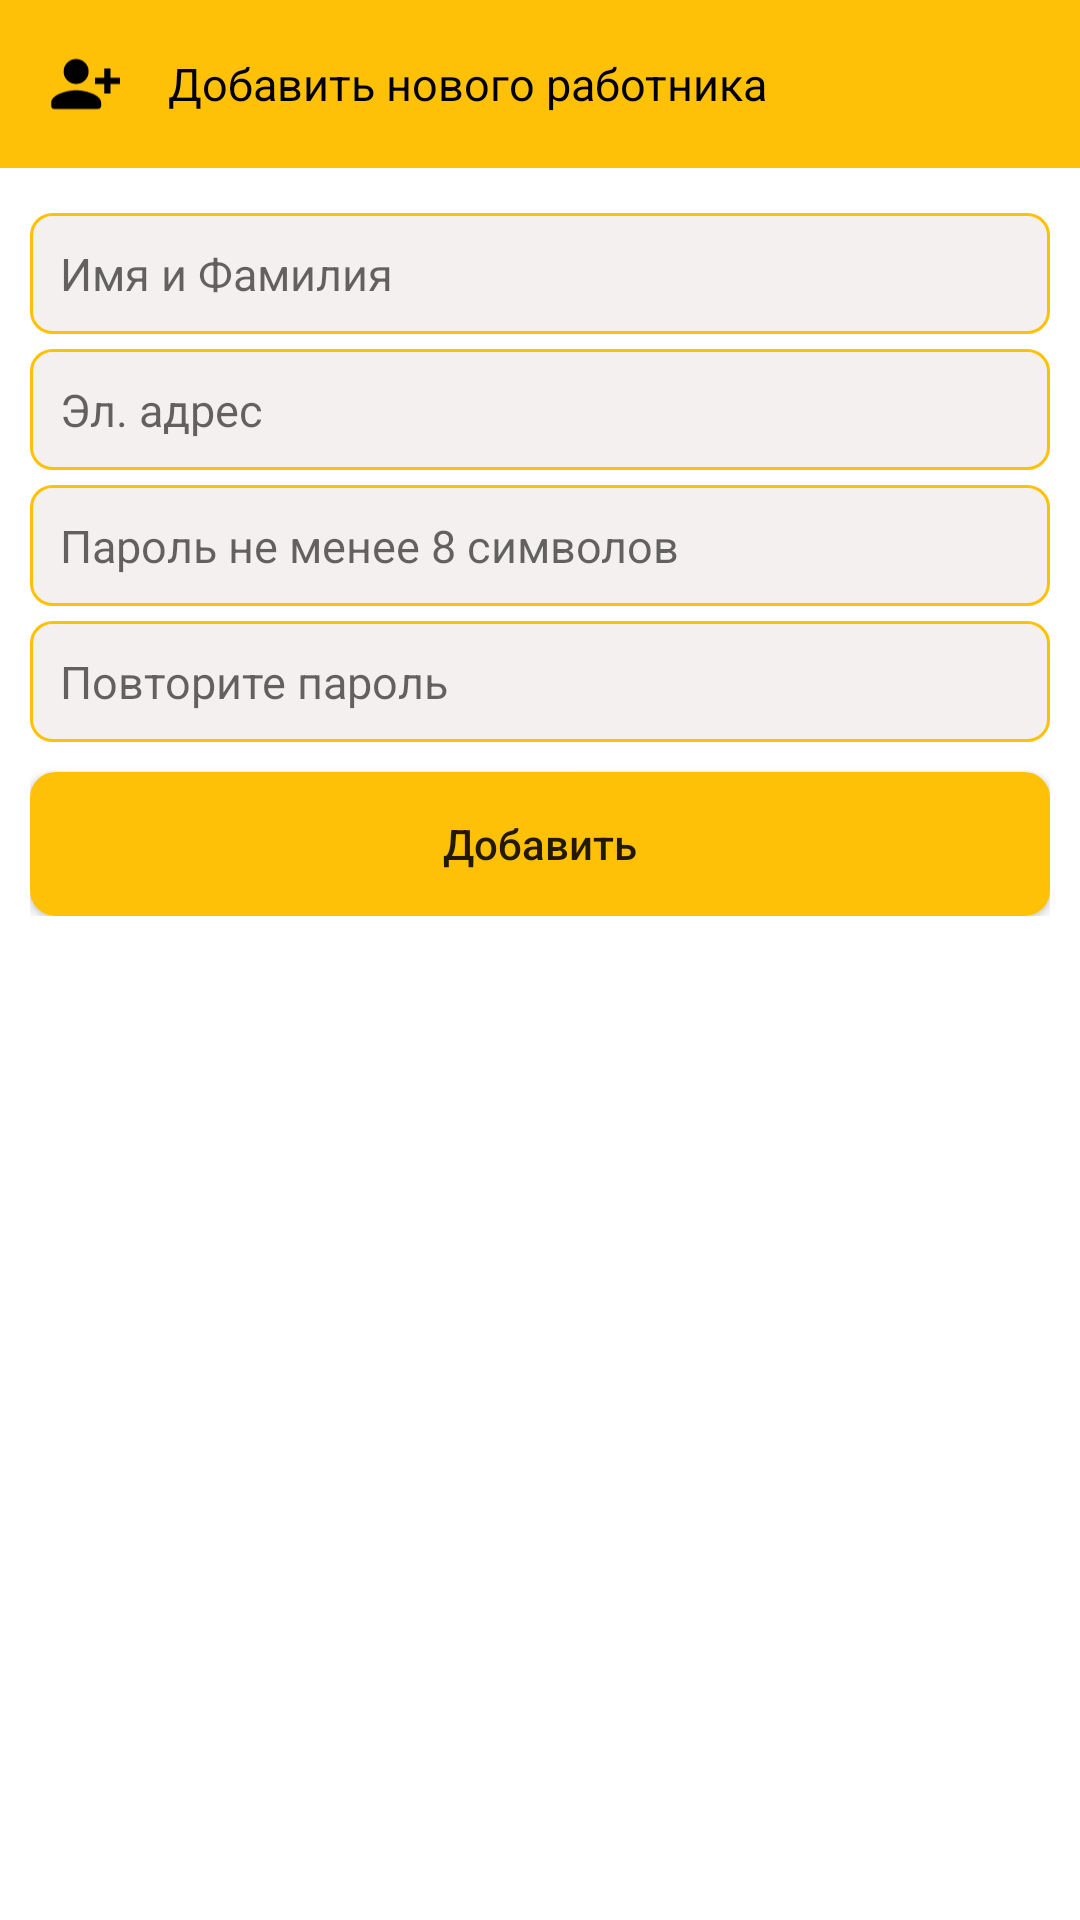

Named icons in this screenshot (1080px×1920px) and their bounding boxes, rect(x1, y1, x2, y2):
person add: rect(51, 58, 120, 110)
